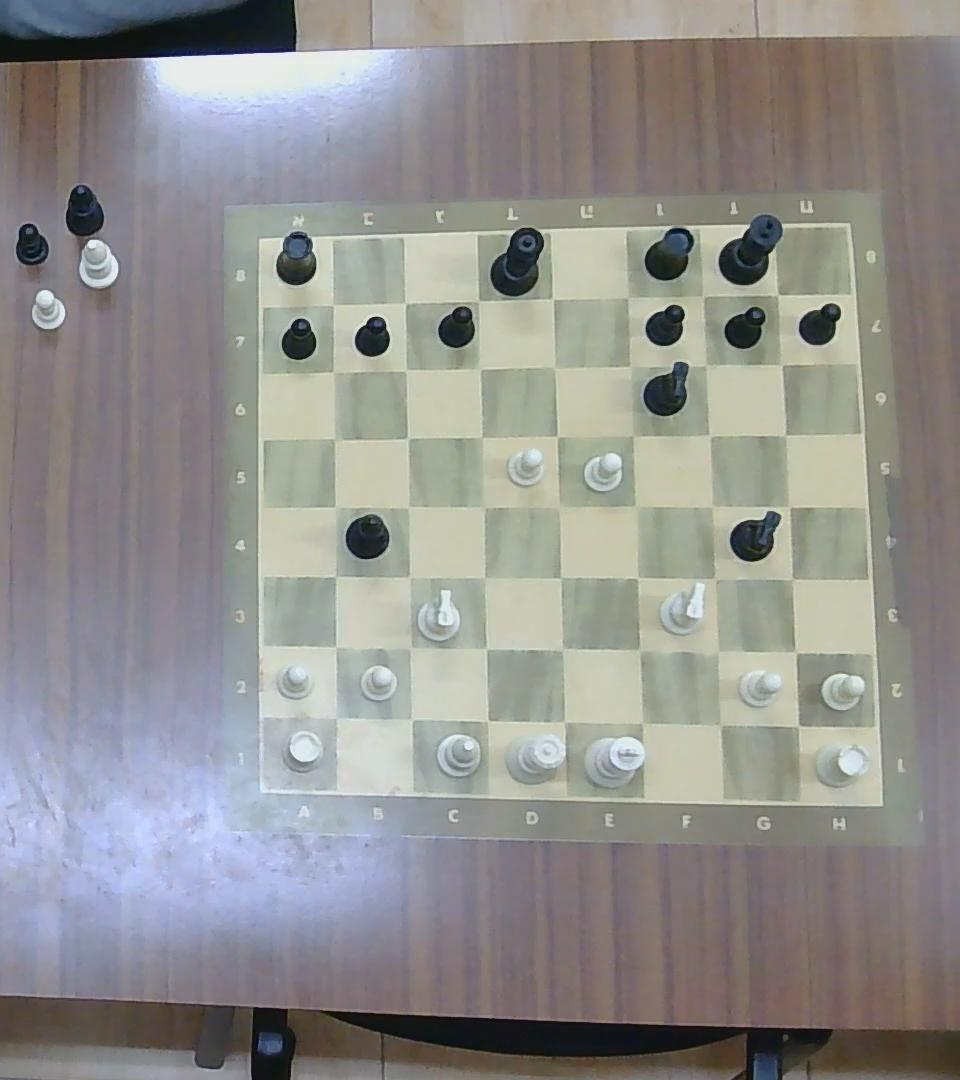xcorner: (624, 705, 658, 738), (702, 707, 736, 740), (701, 635, 734, 667), (546, 633, 578, 665), (781, 709, 813, 741), (624, 633, 655, 665), (470, 704, 501, 736), (394, 703, 425, 734), (470, 632, 501, 663), (548, 704, 578, 736), (320, 701, 350, 733), (621, 561, 651, 592), (545, 561, 575, 592), (780, 636, 811, 666), (394, 633, 424, 662), (776, 564, 806, 593), (320, 631, 350, 660), (615, 351, 645, 380), (470, 562, 499, 591), (699, 564, 728, 593), (545, 491, 573, 520), (470, 491, 498, 520), (320, 561, 349, 589), (395, 562, 423, 591), (622, 490, 651, 518), (617, 421, 646, 449), (543, 421, 571, 449), (467, 421, 495, 448), (395, 492, 423, 519), (699, 490, 726, 518), (774, 492, 802, 519), (540, 352, 568, 379), (320, 423, 347, 450), (323, 492, 349, 519), (318, 292, 345, 318), (540, 285, 566, 312), (693, 351, 719, 377), (394, 424, 420, 449), (696, 421, 722, 446), (319, 358, 345, 383), (615, 284, 641, 309), (768, 350, 794, 375), (393, 355, 418, 380), (466, 355, 491, 380), (465, 288, 491, 312), (773, 421, 798, 445), (391, 290, 416, 313), (691, 283, 714, 307), (767, 282, 789, 304)
